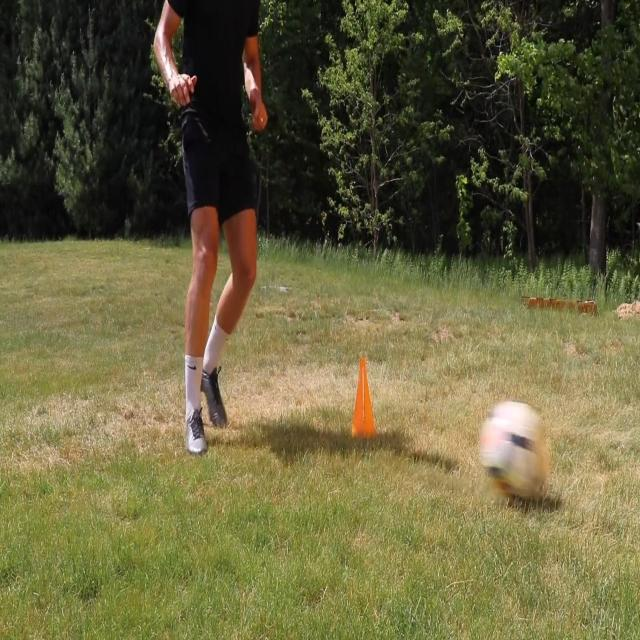Soccer Ball: (481, 399, 548, 509)
